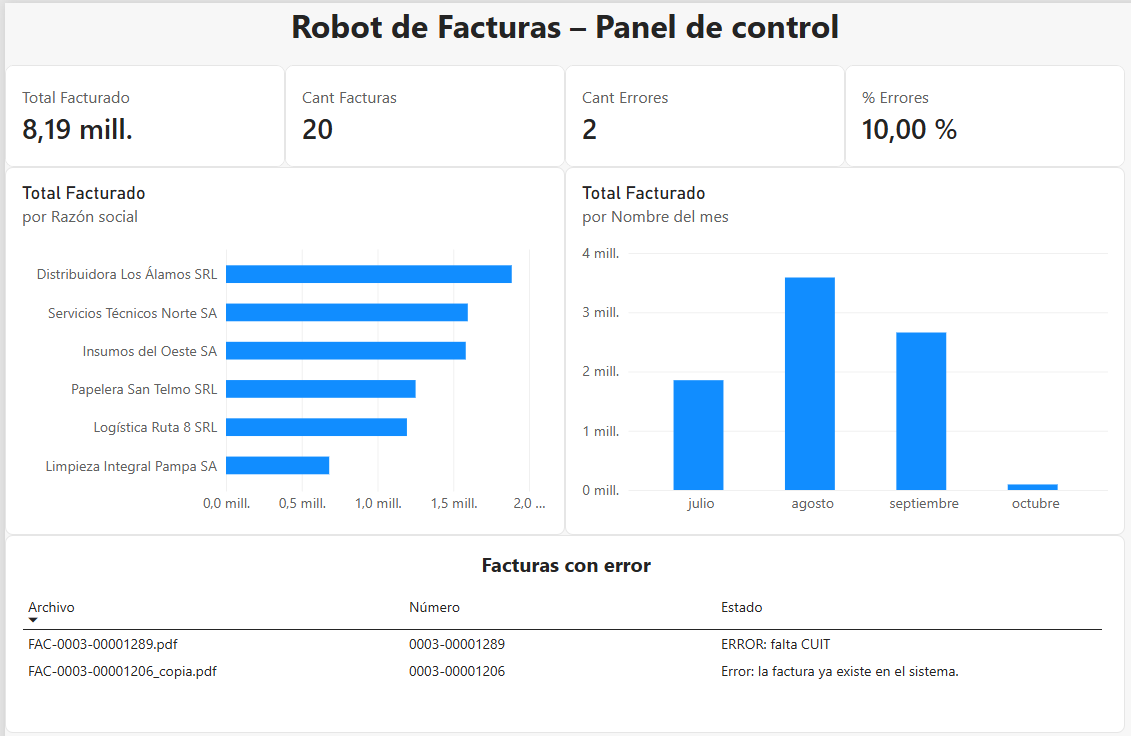

The page's visual inventory and layout, read from the dashboard file:
{"tool":"powerbi","page":{"name":"Página 1","canvas":[1920,1080],"ordinal":0},"visuals":[{"type":"cardVisual","fields":{"Data":["Facturas.Total Facturado"]},"box":[0,62,280,102],"z":0},{"type":"cardVisual","fields":{"Data":["Facturas.Cant Facturas"]},"box":[280,62,280,102],"z":1},{"type":"cardVisual","fields":{"Data":["Facturas.Cant Errores"]},"box":[560,62,280,102],"z":2},{"type":"cardVisual","fields":{"Data":["Facturas.% Errores"]},"box":[840,62,280,102],"z":3},{"type":"clusteredBarChart","fields":{"Category":["Facturas.Razón social"],"Y":["Facturas.Total Facturado"]},"box":[0,164,560,368],"z":4},{"type":"clusteredColumnChart","fields":{"Category":["Facturas.Nombre del mes"],"Y":["Facturas.Total Facturado"]},"box":[560,164,560,368],"z":5},{"type":"tableEx","title":"Facturas con error","fields":{"Values":["Facturas.Archivo","Facturas.Número","Facturas.Estado"]},"box":[0,532,1120,198],"z":6},{"type":"textbox","box":[0,0,1120,63],"z":7}]}

Visuals, with their boxes on the page's 1920x1080 design canvas (x1, y1, x2, y2). These are canvas units, not pixel positions in the 1131x736 screenshot, which may show the page scaled, cropped or inside an application window:
cardVisual - Facturas.Total Facturado: [0,62,280,164]
cardVisual - Facturas.Cant Facturas: [280,62,560,164]
cardVisual - Facturas.Cant Errores: [560,62,840,164]
cardVisual - Facturas.% Errores: [840,62,1120,164]
clusteredBarChart - Facturas.Razón social x Facturas.Total Facturado: [0,164,560,532]
clusteredColumnChart - Facturas.Nombre del mes x Facturas.Total Facturado: [560,164,1120,532]
"Facturas con error" tableEx: [0,532,1120,730]
textbox: [0,0,1120,63]
